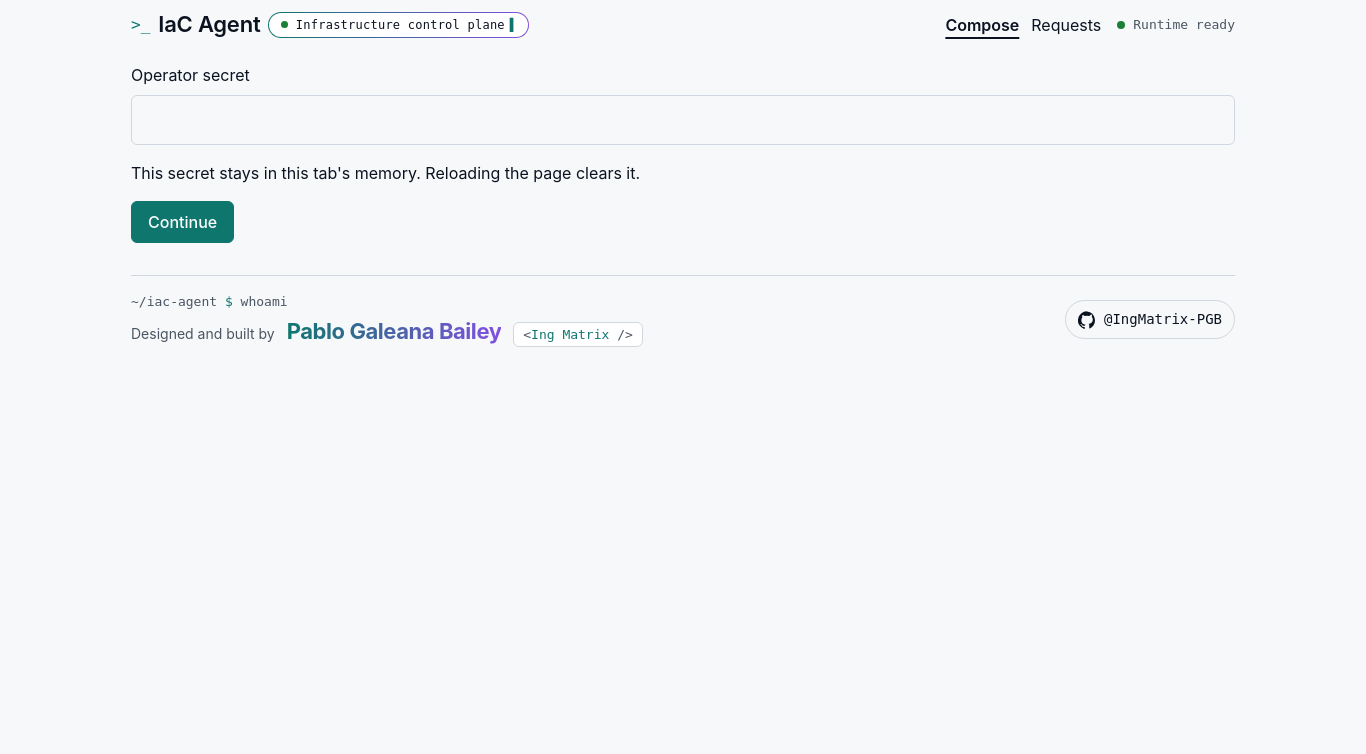
Test: operator shell › keeps clarification on the composer
Step 1. Type "test-operator-secret" into the password field labelled "Operator secret" → (683, 120), box x1=131 y1=94 x2=1235 y2=144
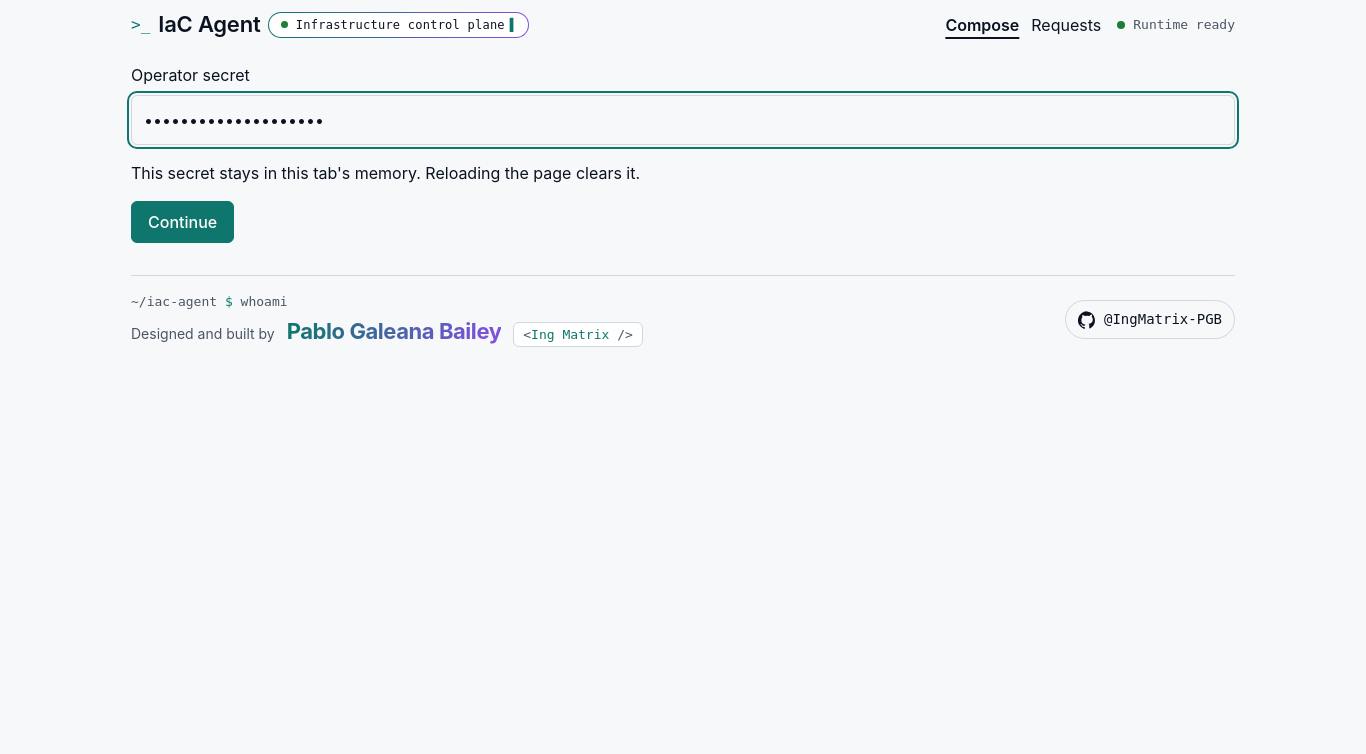
Step 2. Click the button "Continue" → (183, 222), box x1=131 y1=200 x2=234 y2=242
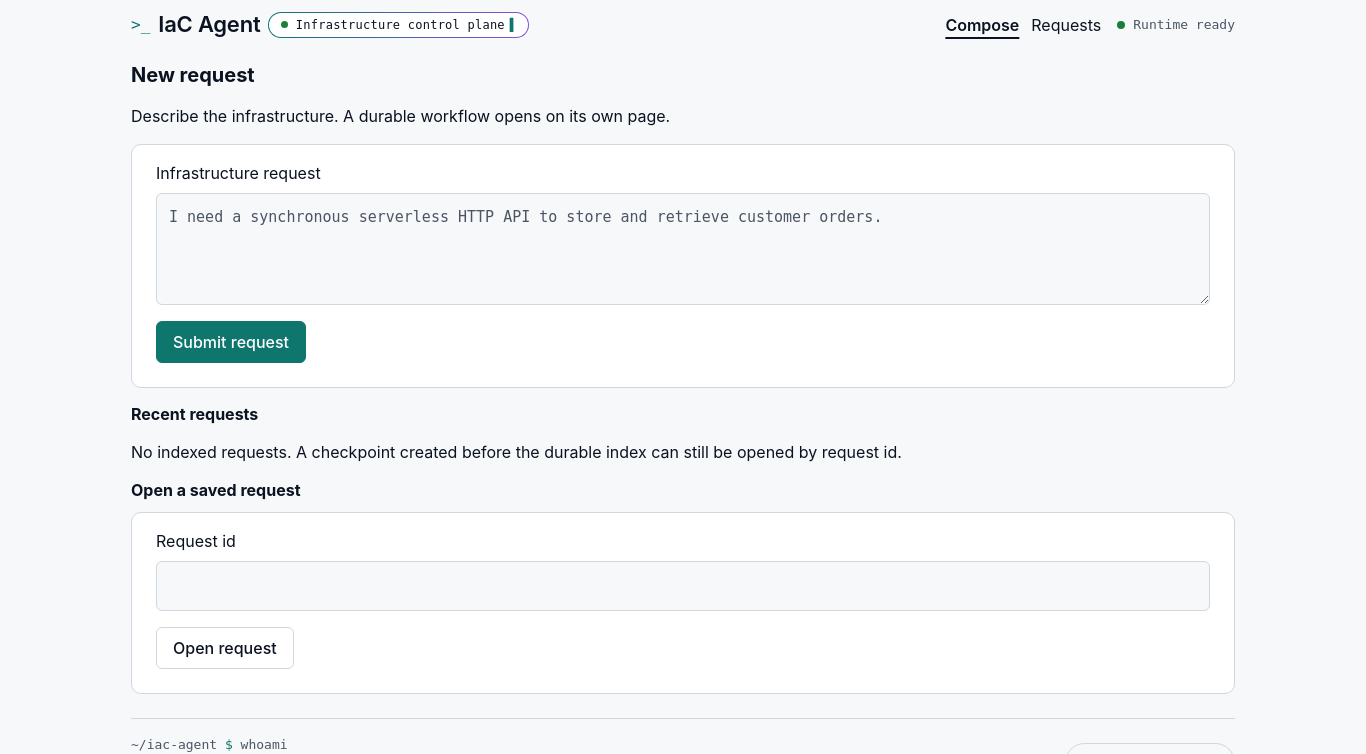
Step 3. Type "hello" into the text box labelled "Infrastructure request" → (683, 248), box x1=156 y1=192 x2=1210 y2=304
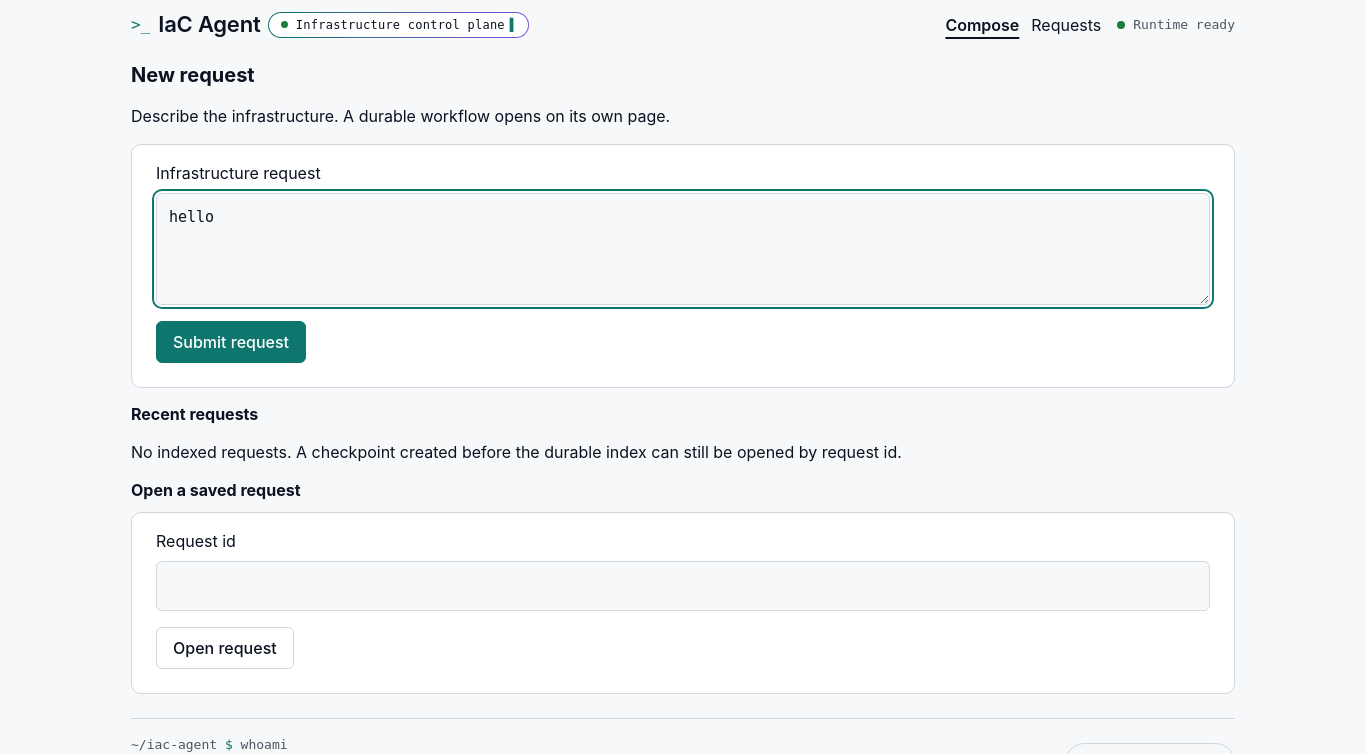
Step 4. Click the button "Submit request" → (231, 342), box x1=156 y1=320 x2=306 y2=362
(page scrolled)
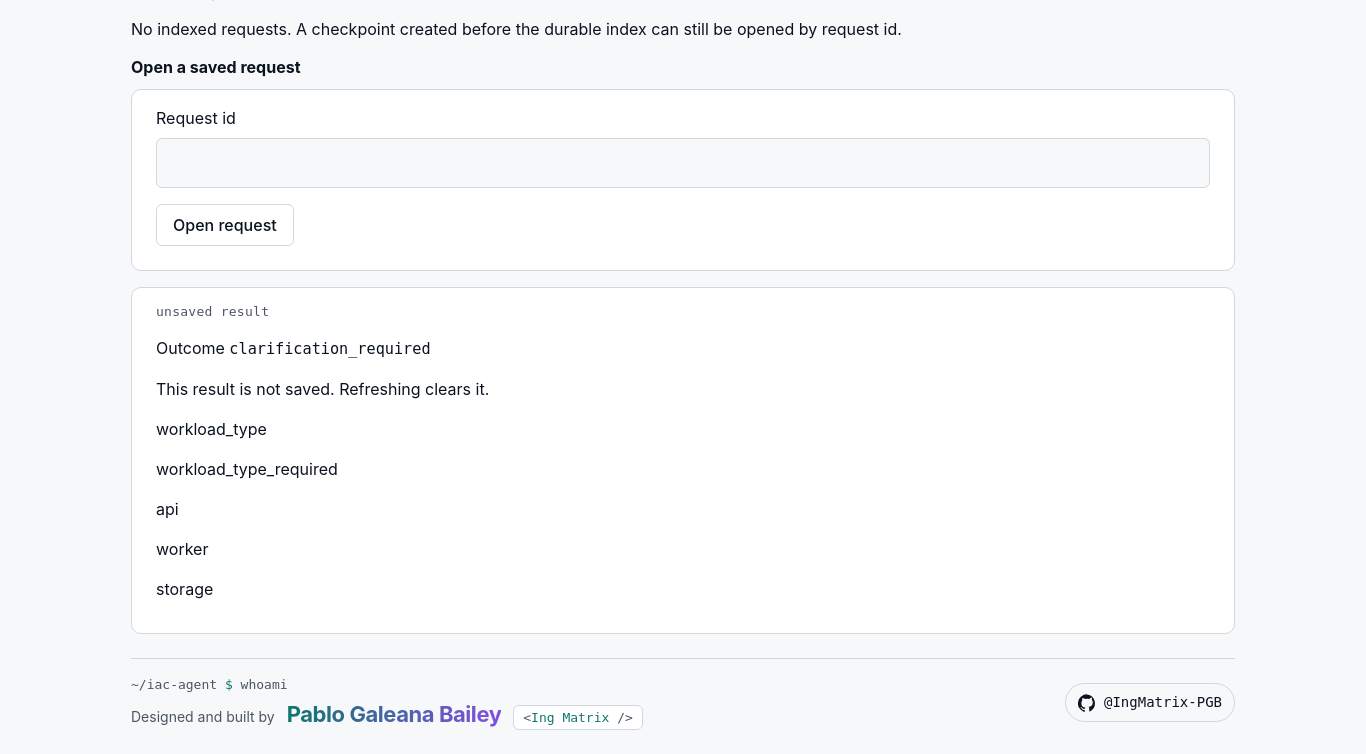
Now the text "workload_type" is shown, box x1=156 y1=418 x2=267 y2=438
Now the text "workload_type_required" is shown, box x1=156 y1=458 x2=338 y2=478
Now the text "api" is shown, box x1=156 y1=498 x2=179 y2=518
